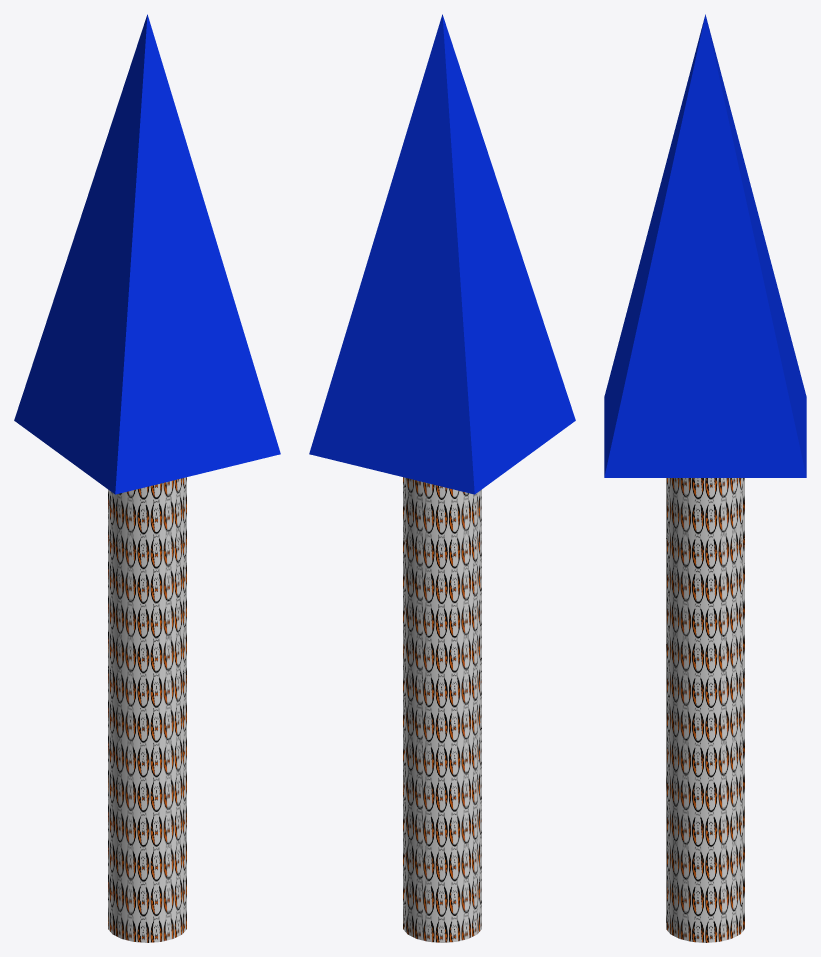
Rendered from symbolTreeBlue.FBX.
The picture shows the model from 3 angles, left to right: view 1: azimuth 30°, elevation 25°; view 2: azimuth 150°, elevation 25°; view 3: azimuth 270°, elevation 25°; orthographic projection.
Parts seen in each view (by area): view 1: Pyramid001, Cylinder001; view 2: Pyramid001, Cylinder001; view 3: Pyramid001, Cylinder001.
Boxes of the visible parts, x1=… form: Pyramid001: x1=14, y1=14, x2=280, y2=494; Cylinder001: x1=108, y1=477, x2=186, y2=942; Pyramid001: x1=309, y1=14, x2=575, y2=494; Cylinder001: x1=403, y1=477, x2=481, y2=942; Pyramid001: x1=604, y1=14, x2=806, y2=477; Cylinder001: x1=666, y1=478, x2=744, y2=942.
Size of the model in its own units: 536 by 567 by 2819.
2 materials, 2 textured.
